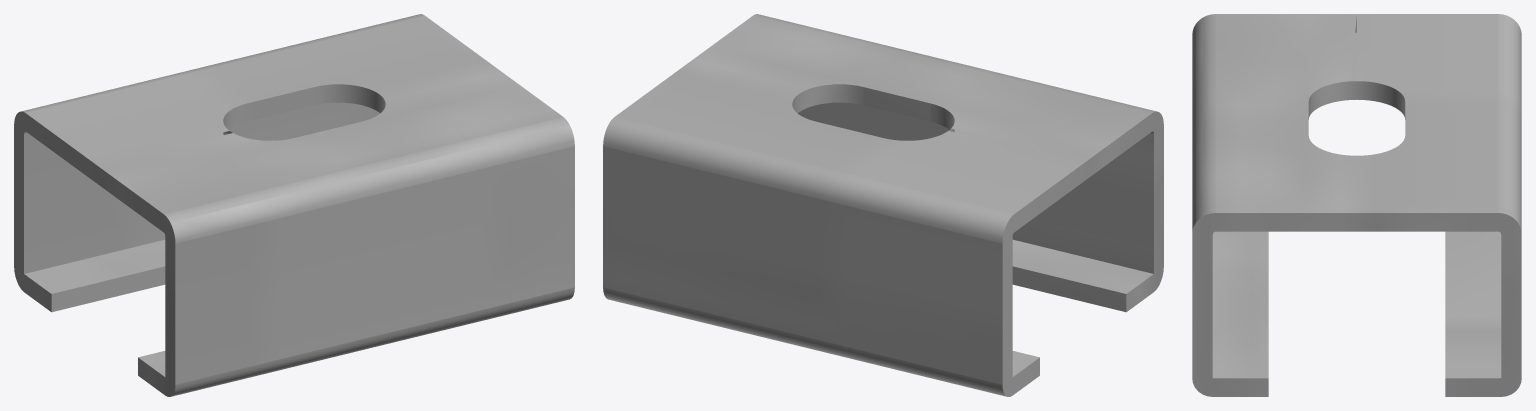
3 renders of one model, left to right at view 1: azimuth 30°, elevation 25°; view 2: azimuth 150°, elevation 25°; view 3: azimuth 270°, elevation 25°, orthographic. The views are drawn at different scales.
Visible parts, largest first — view 1: 27_18_ O; view 2: 27_18_ O; view 3: 27_18_ O.
Boxes of the visible parts, x1,y1,x2,y2 form: 27_18_ O: (14, 14, 574, 396); 27_18_ O: (603, 14, 1163, 396); 27_18_ O: (1192, 14, 1521, 396).
Bounding box in the file's own units: 40 × 17.25 × 28.
1 material, 1 textured.
